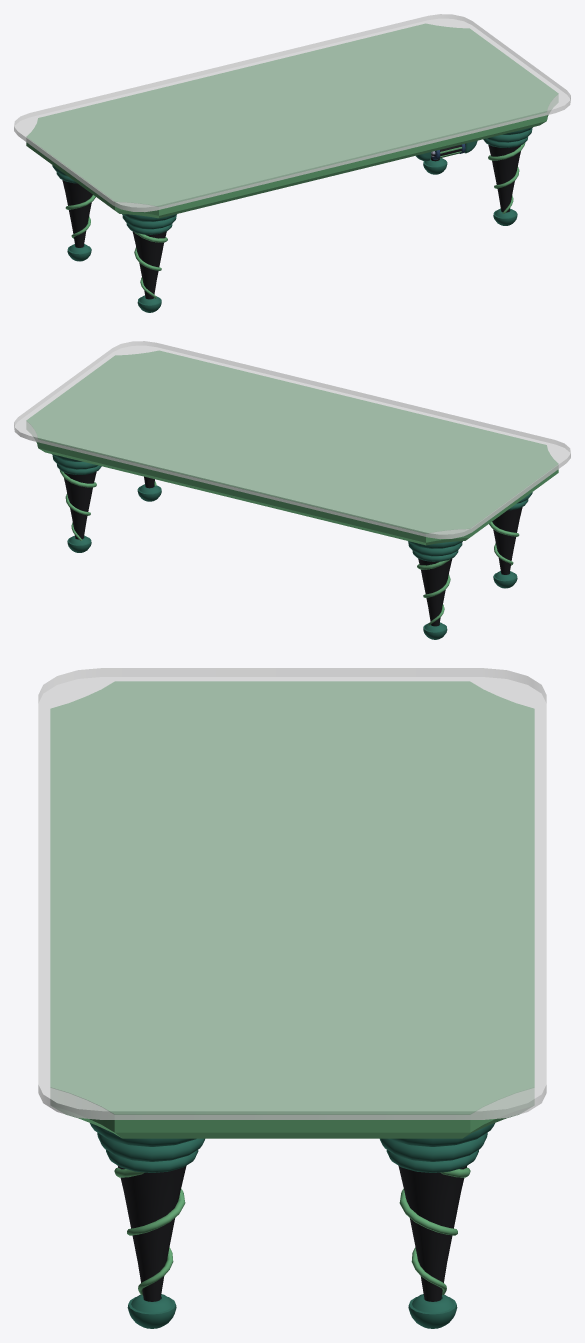
Rendered from Furn_TableFloatingBig_Green_B.glb.
The picture shows the model from 3 angles, top to bottom: view 1: azimuth 30°, elevation 25°; view 2: azimuth 150°, elevation 25°; view 3: azimuth 270°, elevation 25°; orthographic projection. The views are drawn at different scales.
Parts seen in each view (by area): view 1: Furn_TableFloatingBig_Green_B.001; view 2: Furn_TableFloatingBig_Green_B.001; view 3: Furn_TableFloatingBig_Green_B.001.
Boxes of the visible parts, x1,y1,x2,y2 form: Furn_TableFloatingBig_Green_B.001: (14, 14, 570, 312); Furn_TableFloatingBig_Green_B.001: (14, 341, 570, 639); Furn_TableFloatingBig_Green_B.001: (38, 668, 546, 1328).
Size of the model in its own units: 1.9 by 0.5207 by 0.9209.
